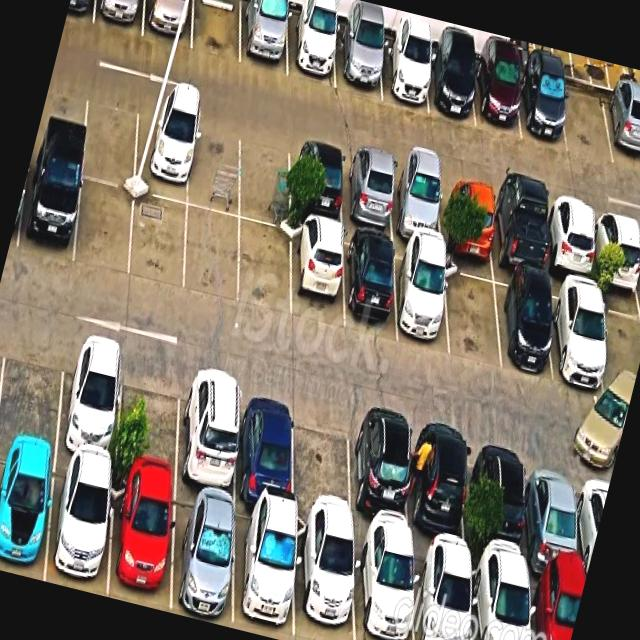car: (94, 484, 182, 608), (160, 501, 248, 625), (222, 516, 306, 640), (158, 393, 246, 510), (36, 474, 119, 593), (44, 366, 130, 478), (334, 426, 418, 540), (283, 535, 370, 640), (224, 412, 302, 528), (457, 447, 534, 562), (394, 440, 472, 550), (544, 287, 620, 398), (512, 469, 589, 576), (343, 546, 428, 640), (386, 250, 462, 354), (490, 276, 564, 380), (126, 97, 202, 196), (485, 184, 556, 288), (434, 166, 504, 270), (338, 233, 408, 337), (0, 457, 59, 578), (278, 224, 352, 320), (277, 136, 352, 229), (534, 200, 602, 300), (421, 26, 488, 124), (404, 559, 485, 640), (376, 11, 442, 110), (15, 168, 86, 260), (514, 45, 578, 146), (468, 39, 534, 135), (330, 0, 395, 96), (382, 160, 448, 252), (459, 572, 547, 640), (582, 209, 640, 311), (282, 0, 348, 84), (336, 150, 399, 237), (231, 0, 301, 78), (598, 65, 640, 160), (139, 0, 203, 42), (91, 0, 153, 33)
free: (106, 378, 188, 491), (278, 422, 362, 530), (0, 340, 73, 463), (434, 270, 512, 366), (182, 115, 252, 216), (121, 188, 194, 284), (67, 182, 141, 276), (234, 127, 304, 223), (72, 97, 144, 187), (226, 217, 296, 308), (554, 64, 621, 156), (177, 205, 244, 292), (184, 0, 255, 64)
